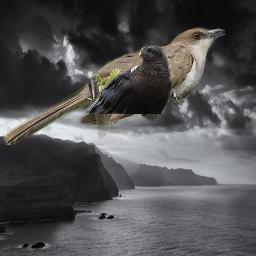Crow: (83, 44, 173, 114)
Cuckoo: (2, 26, 225, 145)
